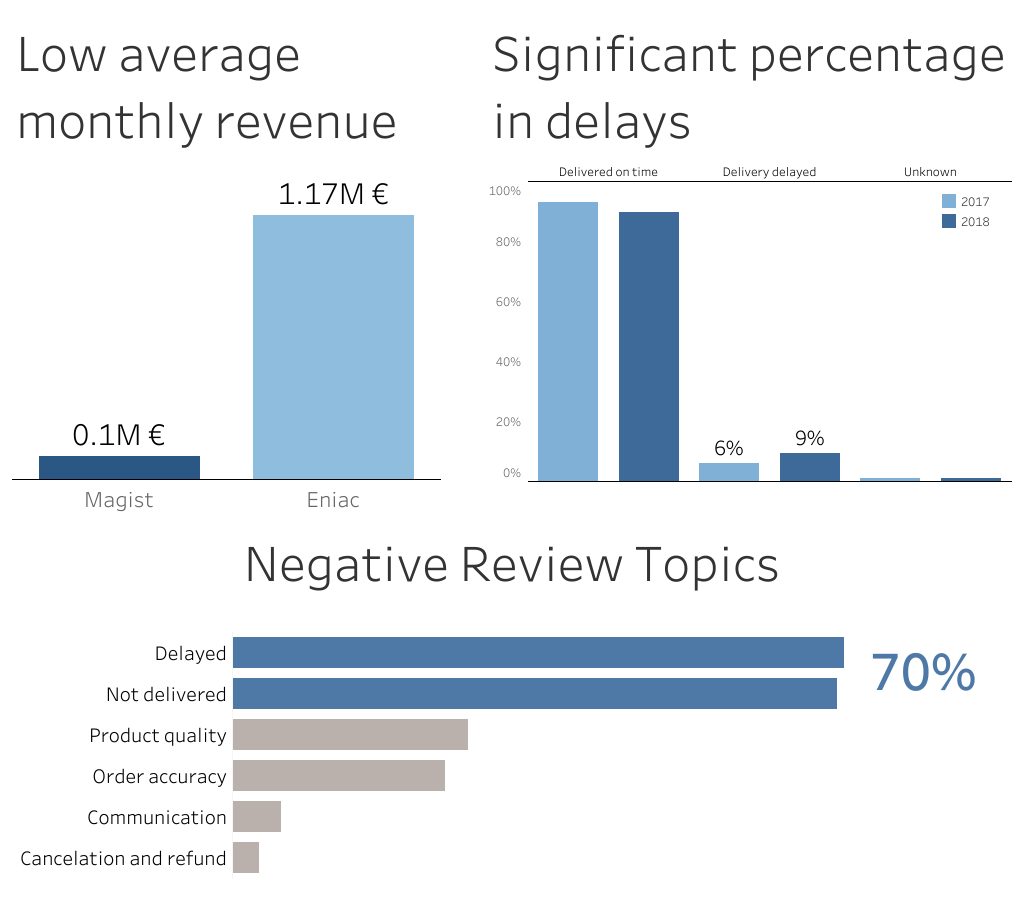

The dashboard page shown, as its layout file describes it:
{"tool":"tableau","page":{"name":"Recommendation","canvas":[1024,900],"ordinal":0},"visuals":[{"type":"worksheet","title":"Low average monthly revenue","mark":"Automatic","box":[8,8,436,510]},{"type":"blank","box":[444,8,40,510]},{"type":"worksheet","title":"Significant percentage in delays","mark":"Automatic","cols":["year"],"box":[484,8,532,478]},{"type":"legend","title":"Significant percentage in delays","param":"[federated.05xo41i0w1cvji12g3k7h0o4z9r5].[none:year:ok]","box":[939,191,72,48]},{"type":"blank","box":[484,486,532,32]},{"type":"worksheet","title":"Negative Review Topics","mark":"Automatic","box":[8,518,1008,374]}]}

Visuals, with their boxes in screenshot pixels (x1, y1, x2, y2), scaled from the page's 1024x900 canvas onto the 1023x899 screenshot:
"Low average monthly revenue" worksheet: crop(8, 8, 444, 517)
blank: crop(444, 8, 484, 517)
"Significant percentage in delays" worksheet: crop(484, 8, 1015, 485)
"Significant percentage in delays" legend: crop(938, 191, 1010, 239)
blank: crop(484, 485, 1015, 517)
"Negative Review Topics" worksheet: crop(8, 517, 1015, 891)
